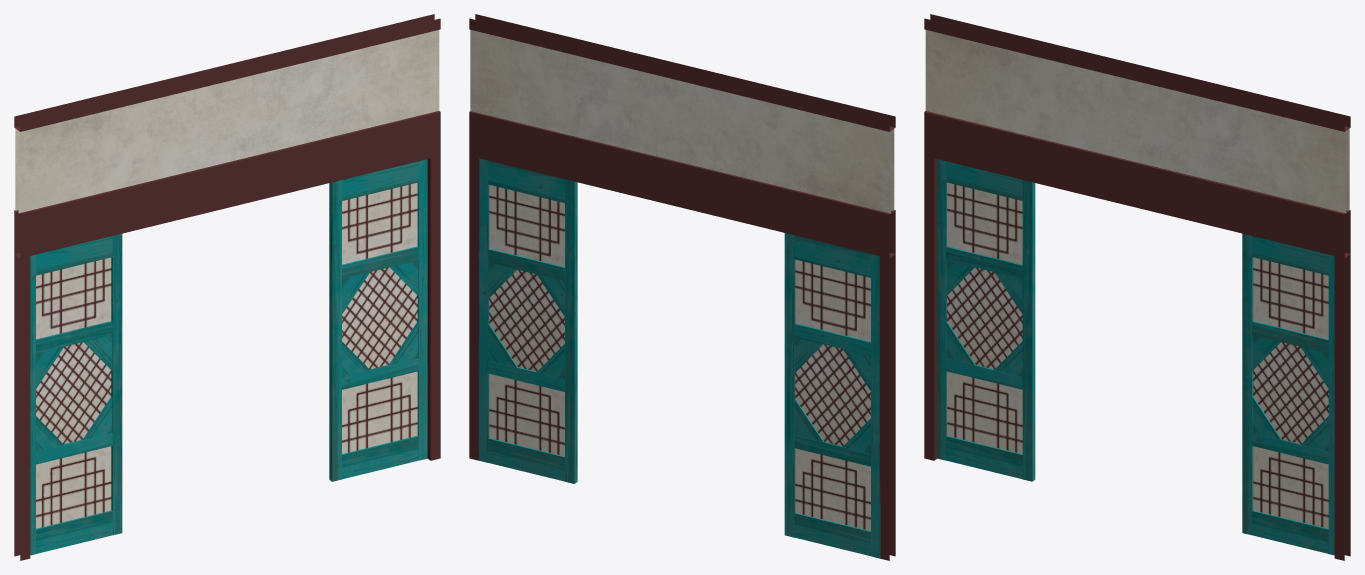
File: door.fbx
3 renders of one model, left to right at view 1: azimuth 30°, elevation 25°; view 2: azimuth 150°, elevation 25°; view 3: azimuth 330°, elevation 25°, orthographic.
Visible parts, largest first — view 1: door; view 2: door; view 3: door.
Part boxes in pixels (bbox=[...]): door: bbox=[14, 14, 440, 560]; door: bbox=[469, 14, 895, 560]; door: bbox=[924, 14, 1350, 560].
Bounding box in the file's own units: 400 × 400 × 10.
